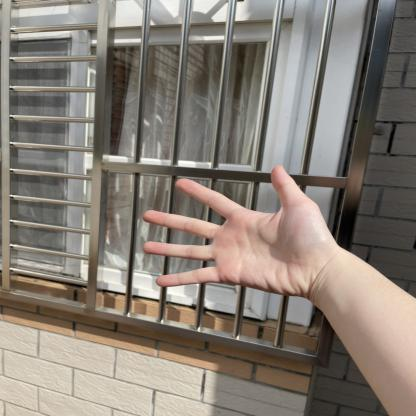bare_hand: (131, 158, 346, 308)
